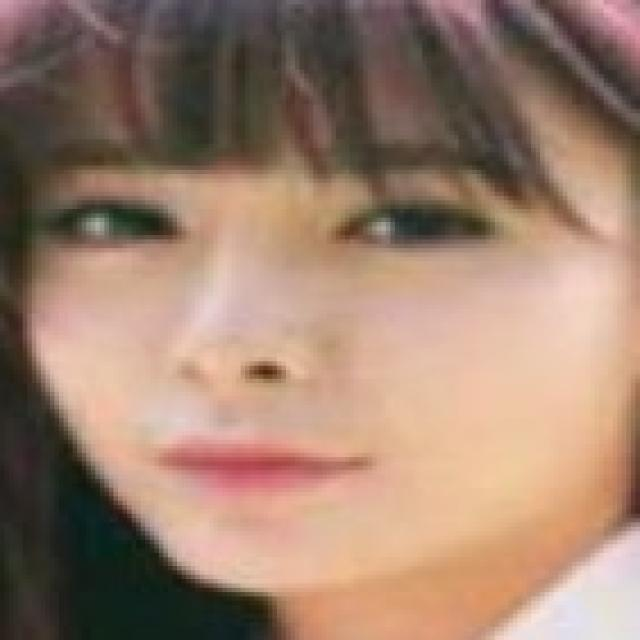no_mask: (47, 57, 590, 592)
